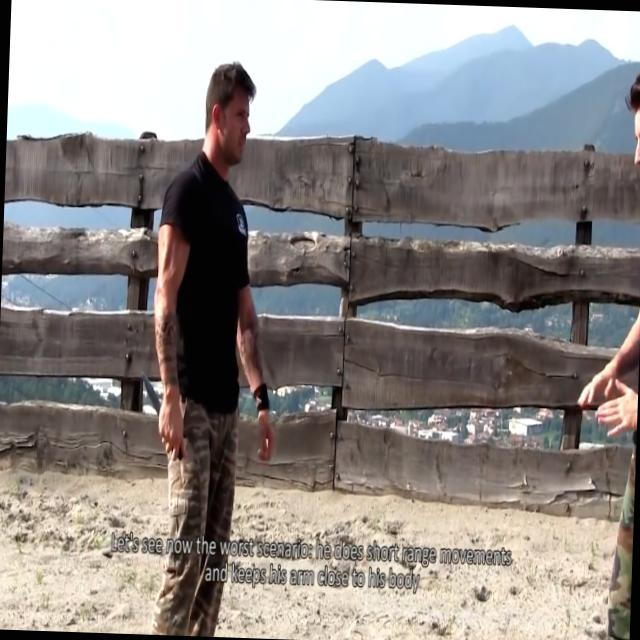knife: (131, 358, 192, 466)
